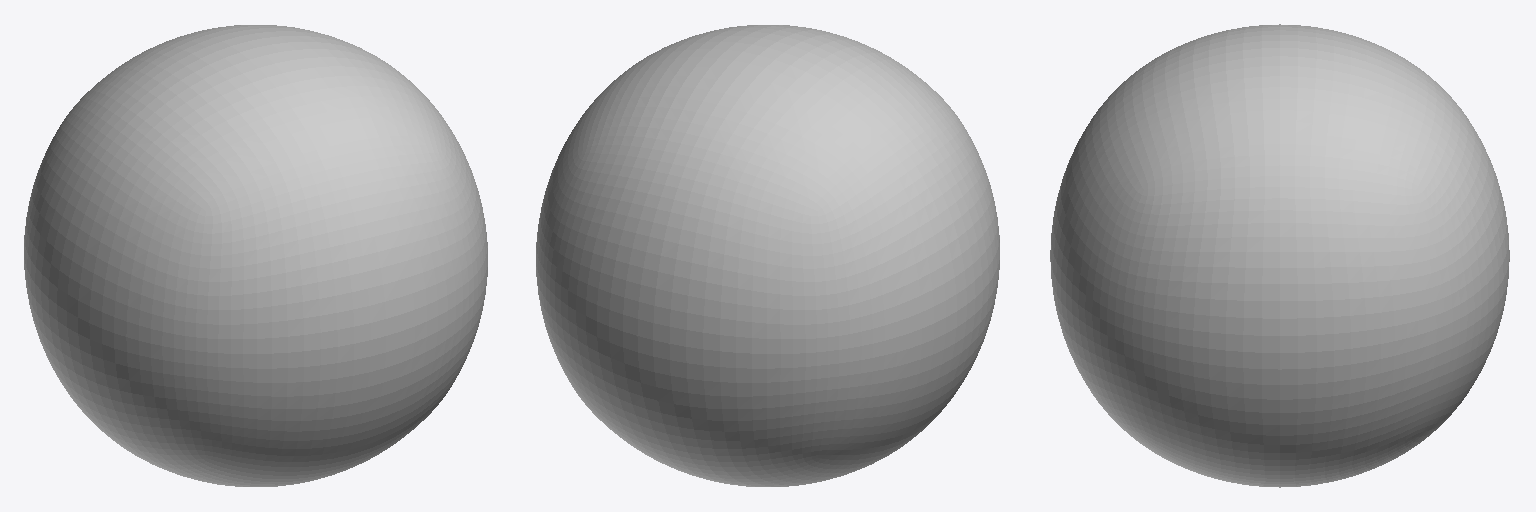
File: basket.obj
3 renders of one model, left to right at view 1: azimuth 30°, elevation 25°; view 2: azimuth 150°, elevation 25°; view 3: azimuth 270°, elevation 25°, orthographic.
Parts seen in each view (by area): view 1: 10487_basketball_V1_ 网格; view 2: 10487_basketball_V1_ 网格; view 3: 10487_basketball_V1_ 网格.
Part boxes in pixels (bbox=[...]): 10487_basketball_V1_ 网格: bbox=[24, 25, 487, 486]; 10487_basketball_V1_ 网格: bbox=[536, 25, 999, 486]; 10487_basketball_V1_ 网格: bbox=[1050, 24, 1509, 487].
Size of the model in its own units: 0.3933 by 0.3933 by 0.3933.